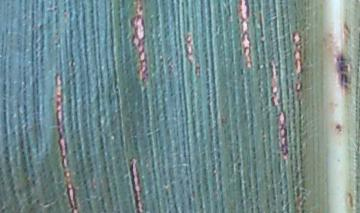tarspot: (113, 86, 122, 95)
